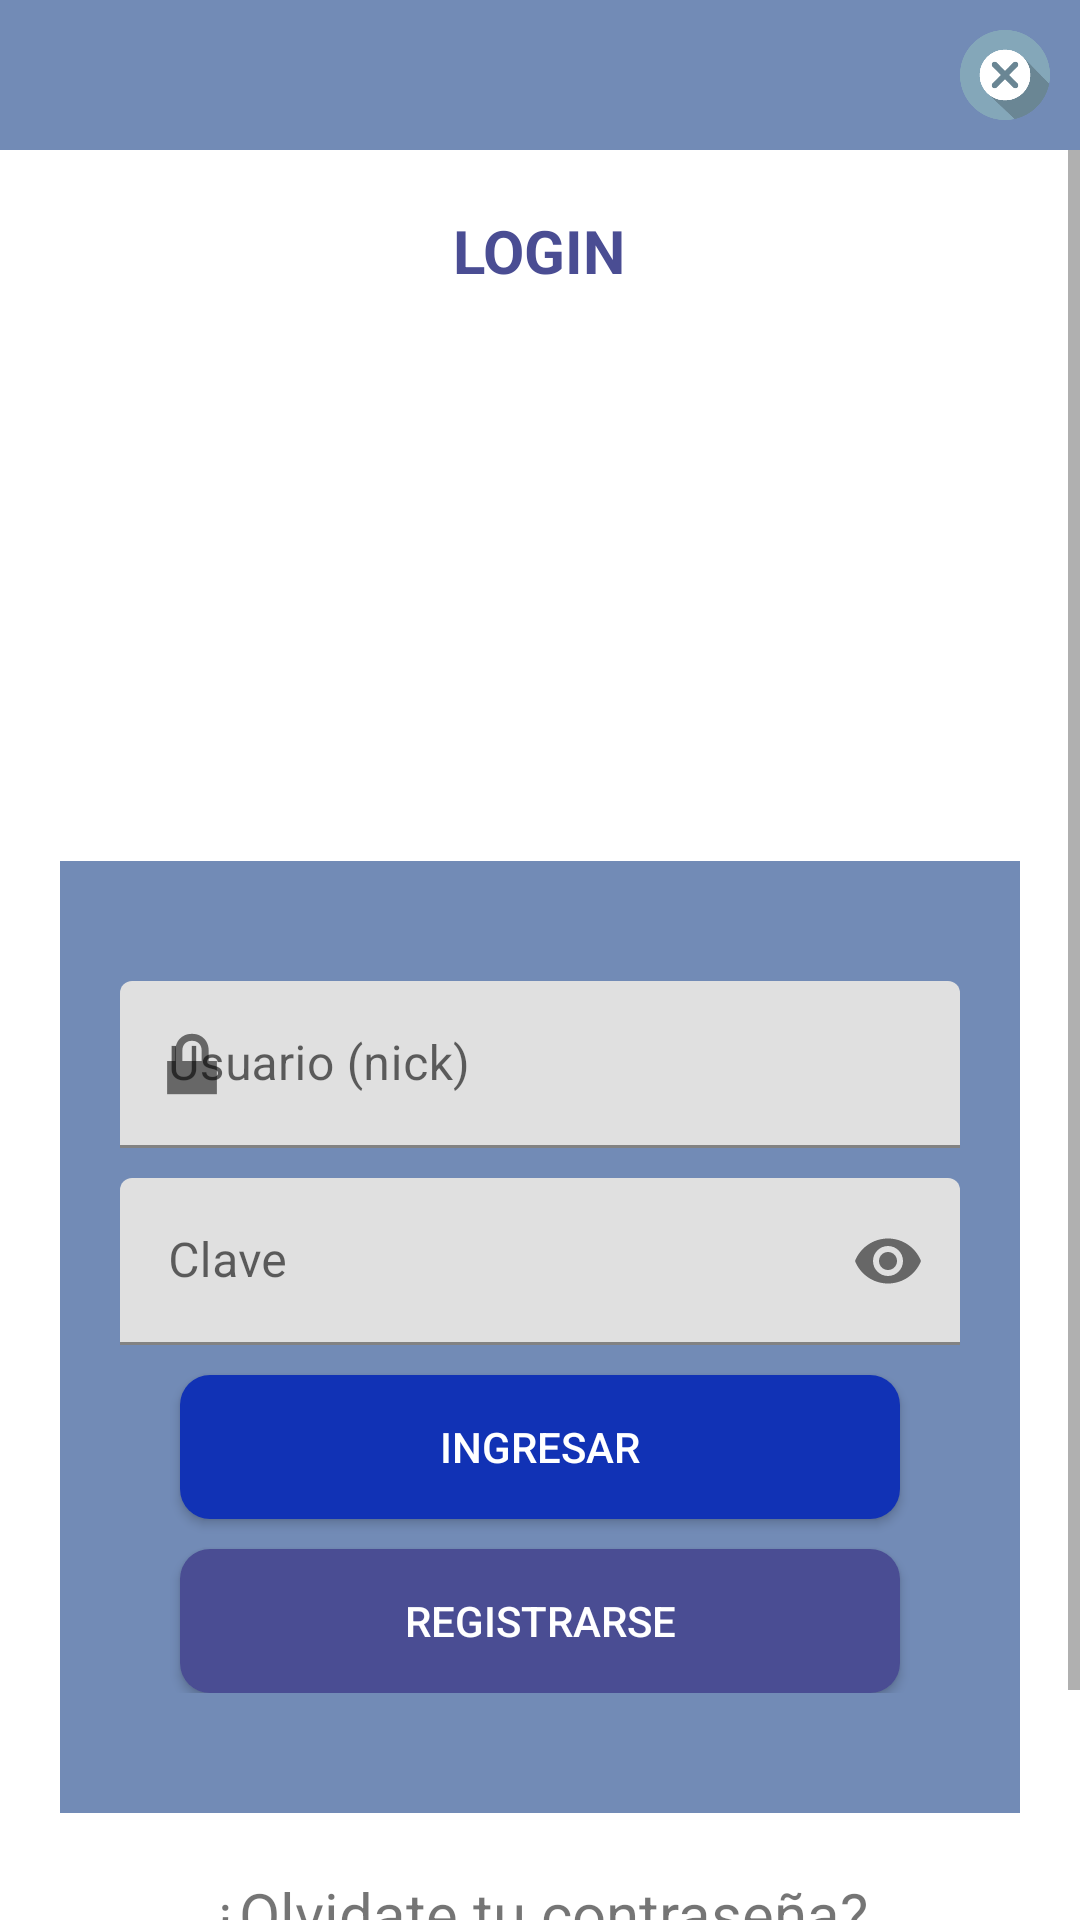

Screen size 1080 × 1920. Icon name, then its box in pixels as (left=x1, top=y1, right=x2, bottom=y2):
close: (left=960, top=30, right=1050, bottom=120)
